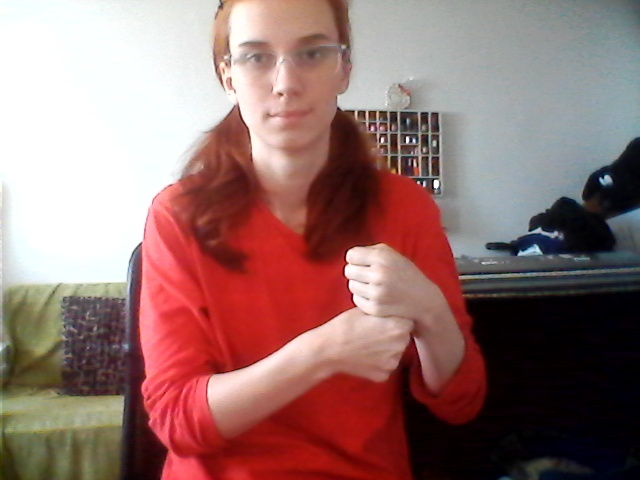g: (316, 239, 434, 393)
